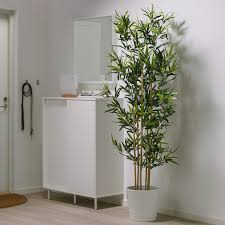bamboo: (105, 6, 191, 186)
